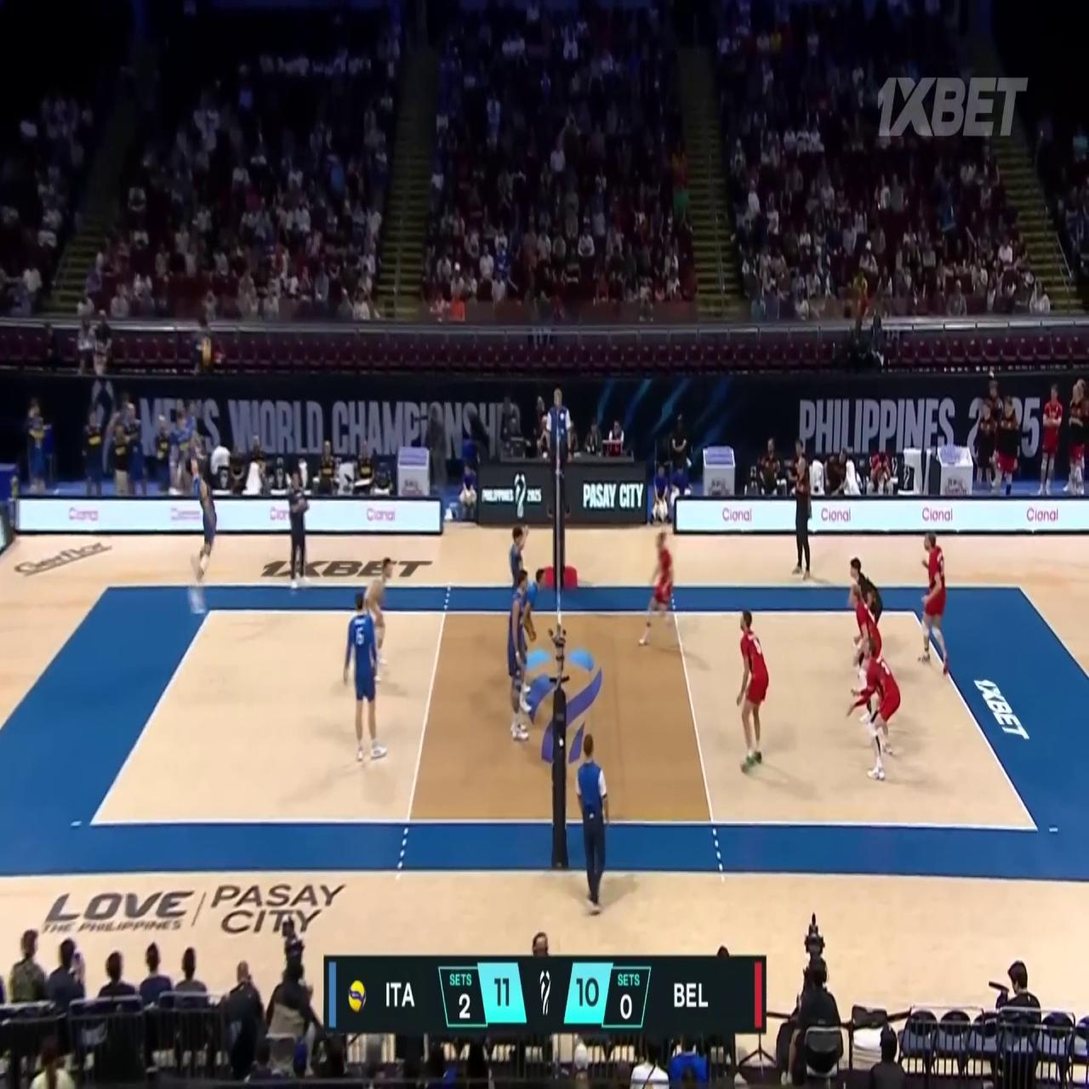ball: (201, 339, 212, 364)
